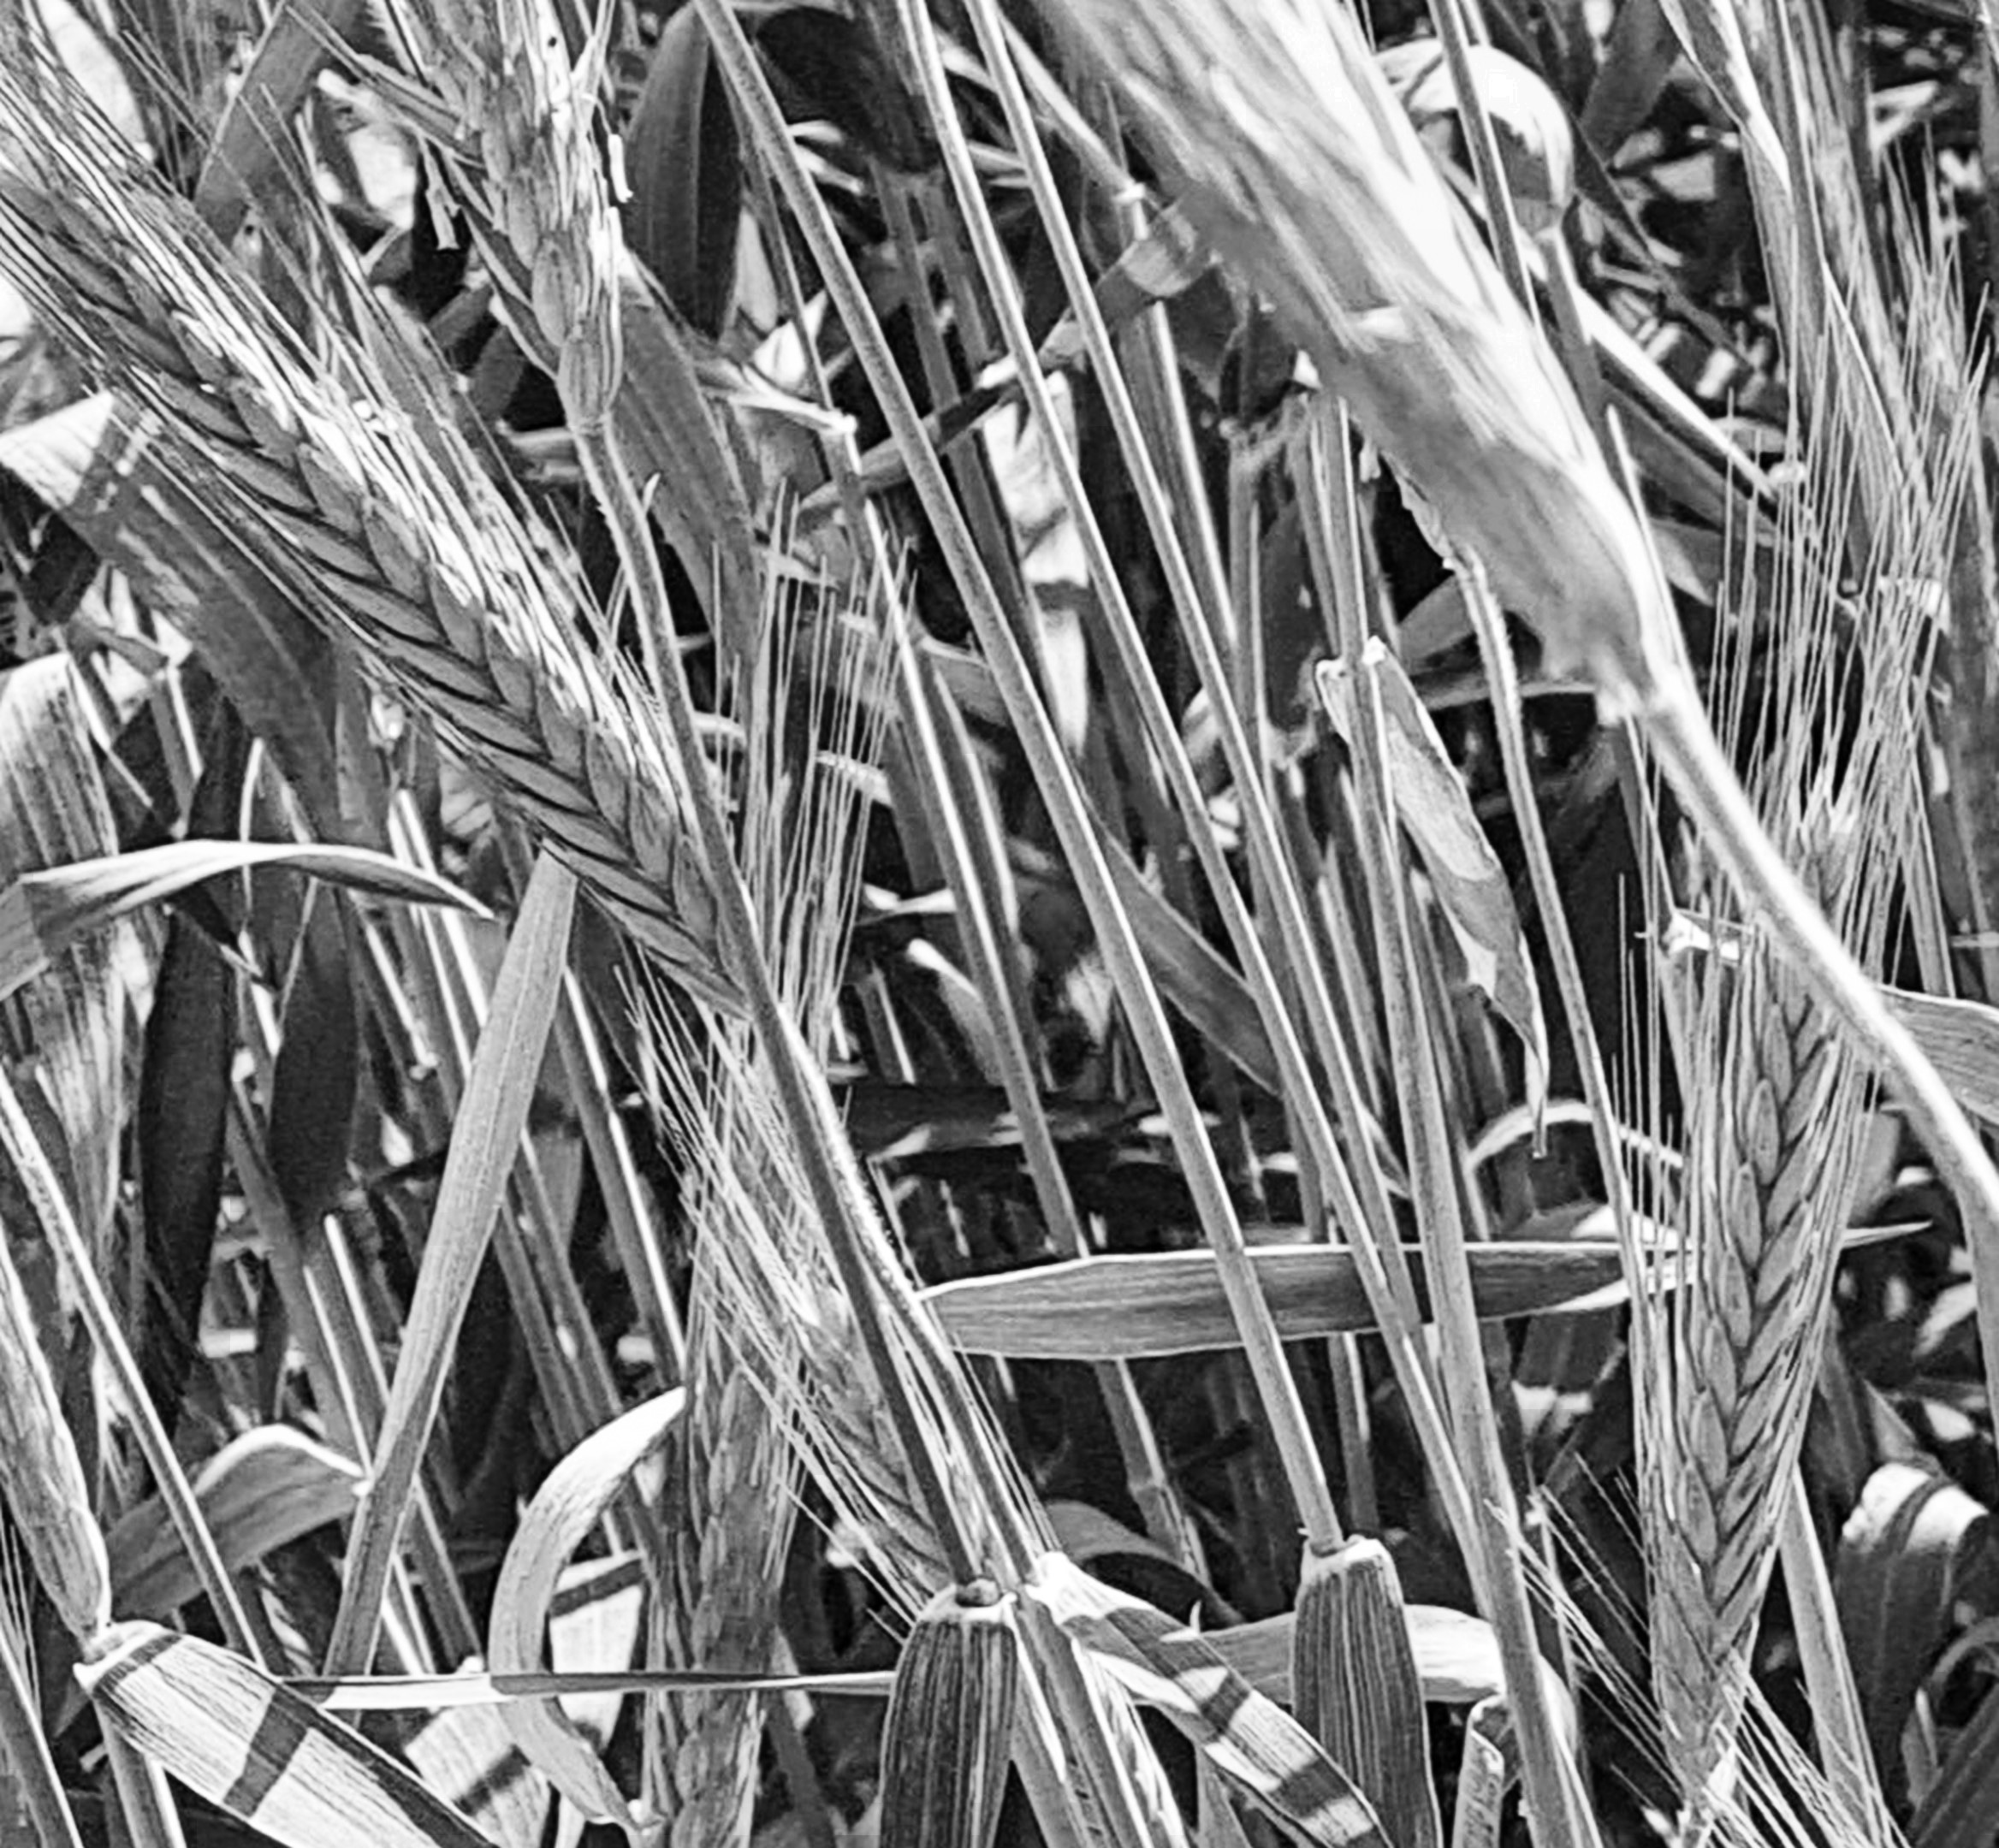Healthy Wheat: (30, 134, 770, 1009), (1628, 799, 1882, 1764)
